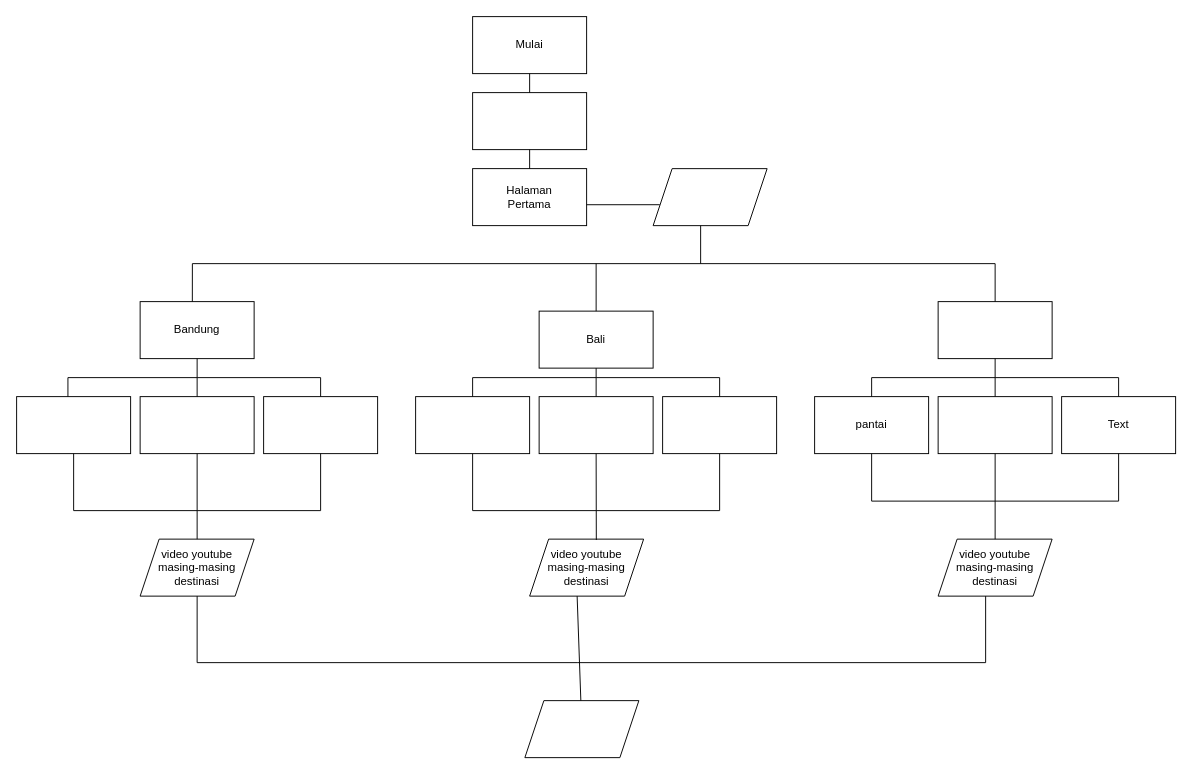
Some shapes in this 1192 by 774 pixel diagram are drawn without their labels. The shapes that lost their labels are listed below. From the top down, each one's box as (x1, y1, x2, y2) in pixels, then its label:
(472, 92, 587, 150): Buka Website
(652, 168, 767, 226): List Tempat Rekomendasi Wisata
(937, 301, 1052, 359): Malang
(937, 396, 1052, 454): kuliner
(524, 700, 639, 758): Ketemu Tempat Rekomendasi
